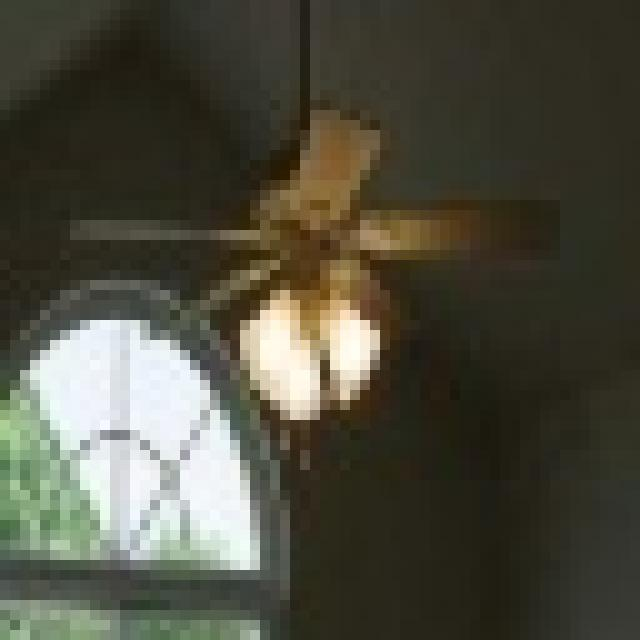Bulb: (61, 116, 592, 451)
